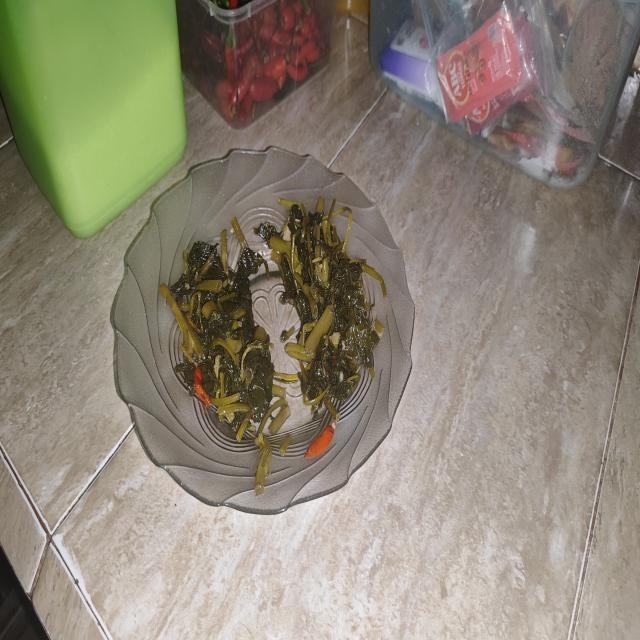tumis_kangkung: (170, 218, 290, 475), (256, 197, 386, 424)
